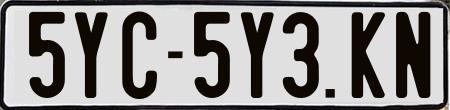3: (280, 11, 320, 99)
5: (192, 9, 228, 99), (28, 9, 65, 95)
C: (120, 9, 159, 98)
K: (351, 9, 389, 95)
N: (395, 11, 434, 98)
Y: (72, 11, 111, 103), (240, 11, 277, 102)
